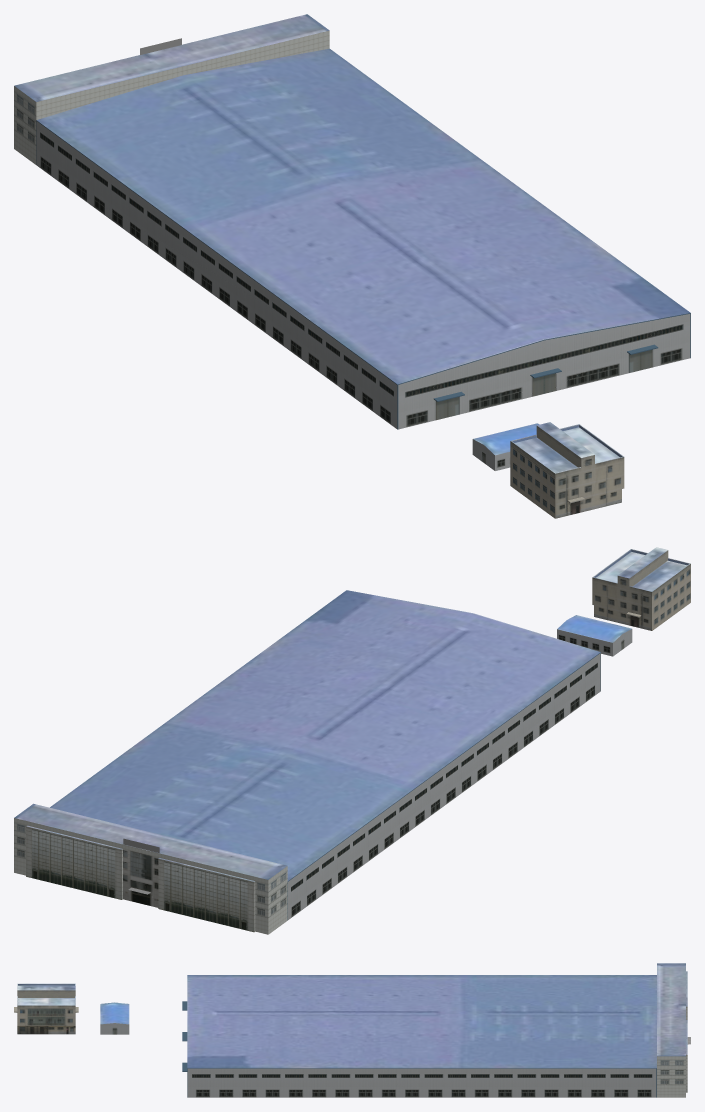
Rendered from side building06.FBX.
The picture shows the model from 3 angles, top to bottom: view 1: azimuth 30°, elevation 25°; view 2: azimuth 150°, elevation 25°; view 3: azimuth 270°, elevation 25°; orthographic projection. The views are drawn at different scales.
Visible parts, largest first — view 1: 西部材料, Object20, Object19; view 2: 西部材料, Object20, Object19; view 3: 西部材料, Object20, Object19.
Boxes of the visible parts, <box> form: 西部材料: <box>14,14,690,429</box>; Object20: <box>510,422,624,518</box>; Object19: <box>472,423,539,470</box>; 西部材料: <box>14,590,600,934</box>; Object20: <box>592,547,690,630</box>; Object19: <box>557,615,632,656</box>; 西部材料: <box>182,963,690,1097</box>; Object20: <box>14,983,78,1034</box>; Object19: <box>100,1002,129,1034</box>.
Size of the model in its own units: 68 by 209 by 15.5.
